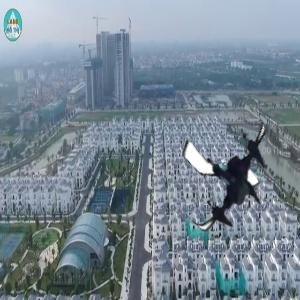drone: (170, 116, 290, 236)
